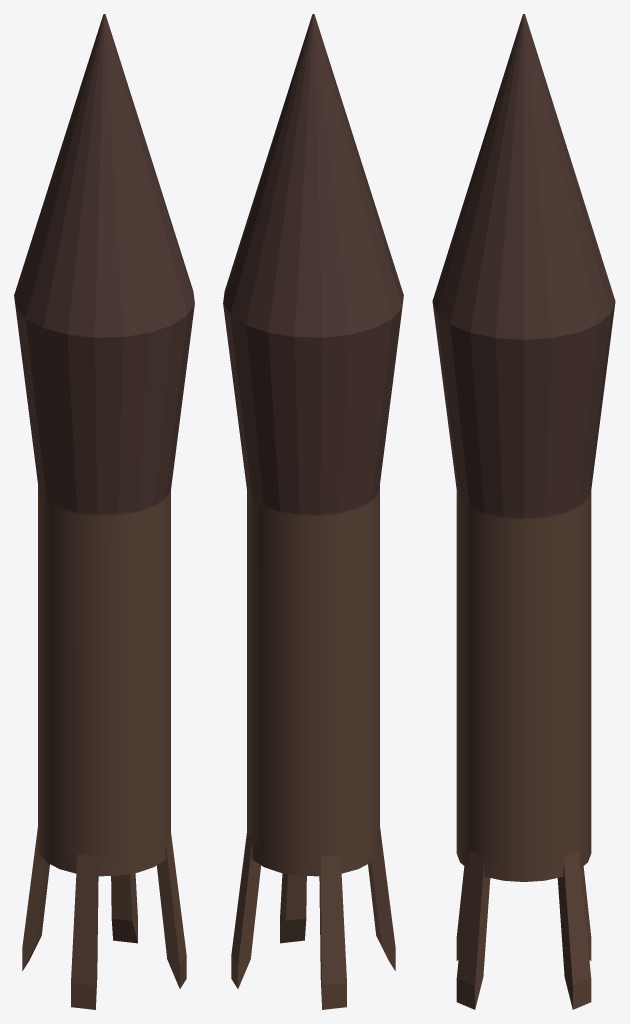
Rendered from roclet model.fbx.
3 views of the same model, side by side, from view 1: azimuth 30°, elevation 25°; view 2: azimuth 150°, elevation 25°; view 3: azimuth 270°, elevation 25° (orthographic).
Parts seen in each view (by area): view 1: pCylinder1; view 2: pCylinder1; view 3: pCylinder1.
Boxes of the visible parts, x1,y1,x2,y2 form: pCylinder1: (14,14,194,1009); pCylinder1: (223,14,403,1009); pCylinder1: (432,14,615,1009).
Bounding box in the file's own units: 3 × 17.5 × 3.
Materials: 1 (1 with a texture image).
